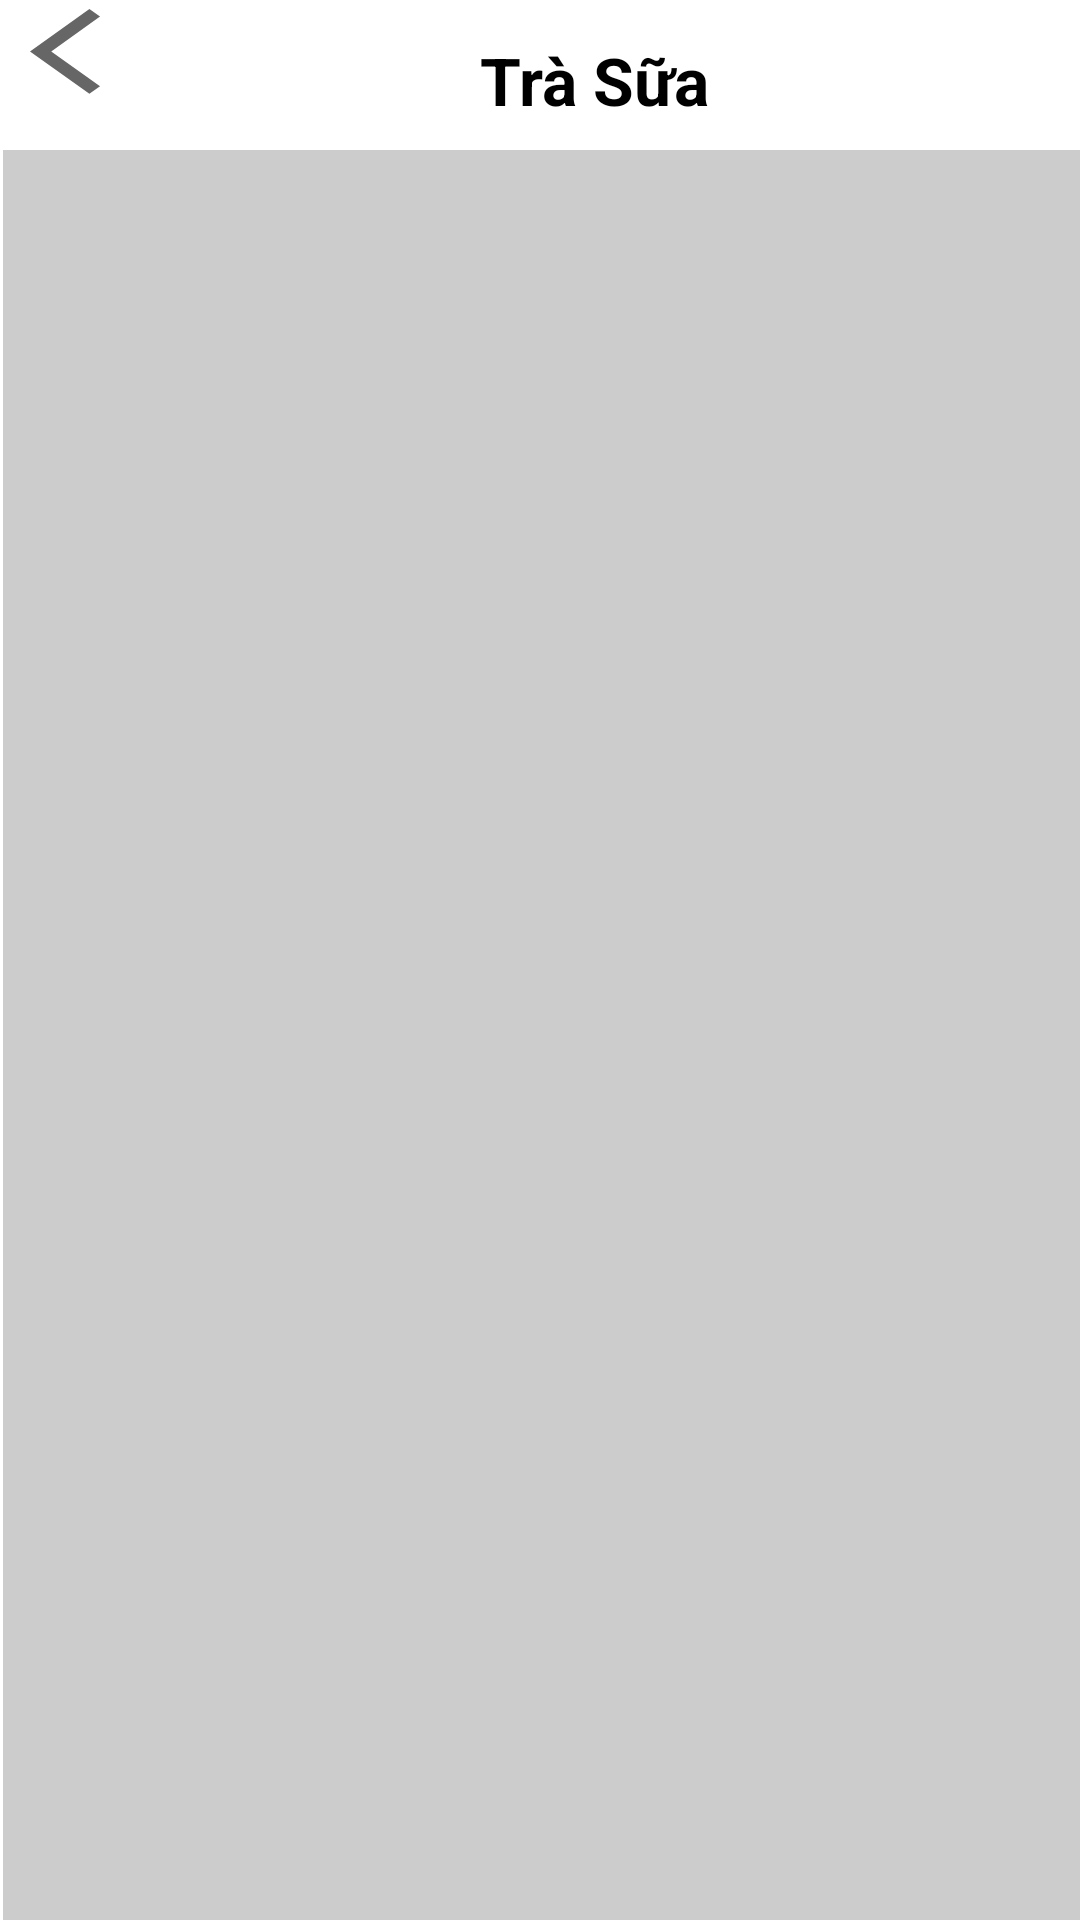

Where icons sit on this 1080 × 1920 app screen, as bbox=(x1, y1, x2, y2):
back: bbox=(30, 9, 100, 94)
